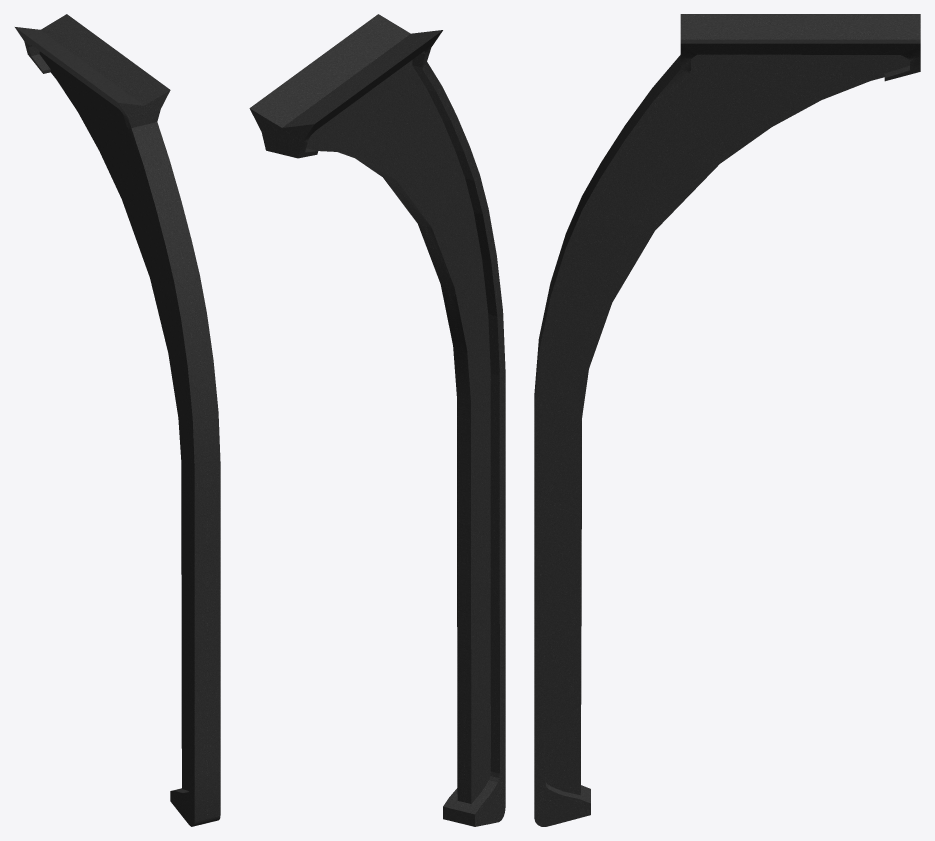
The model's file is Park_Crown_x650_y0.obj.
The picture shows the model from 3 angles, left to right: view 1: azimuth 30°, elevation 25°; view 2: azimuth 150°, elevation 25°; view 3: azimuth 270°, elevation 25°; orthographic projection. The views are drawn at different scales.
Visible parts, largest first — view 1: Ausleger.004; view 2: Ausleger.004; view 3: Ausleger.004.
Boxes of the visible parts, x1,y1,x2,y2 form: Ausleger.004: (15, 14, 220, 826); Ausleger.004: (249, 14, 505, 826); Ausleger.004: (534, 14, 920, 826).
Size of the model in its own units: 0.0609 by 0.7583 by 0.3357.
Materials: 1 (1 with a texture image).
